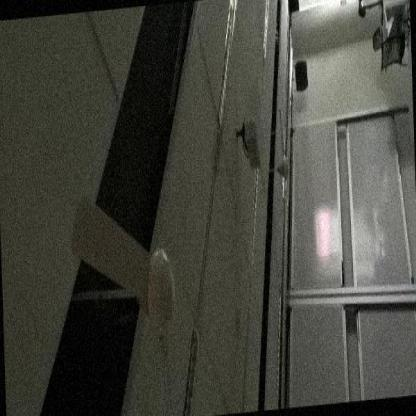light_off: (200, 0, 257, 131), (173, 311, 214, 415), (242, 171, 265, 280), (258, 0, 275, 66)
